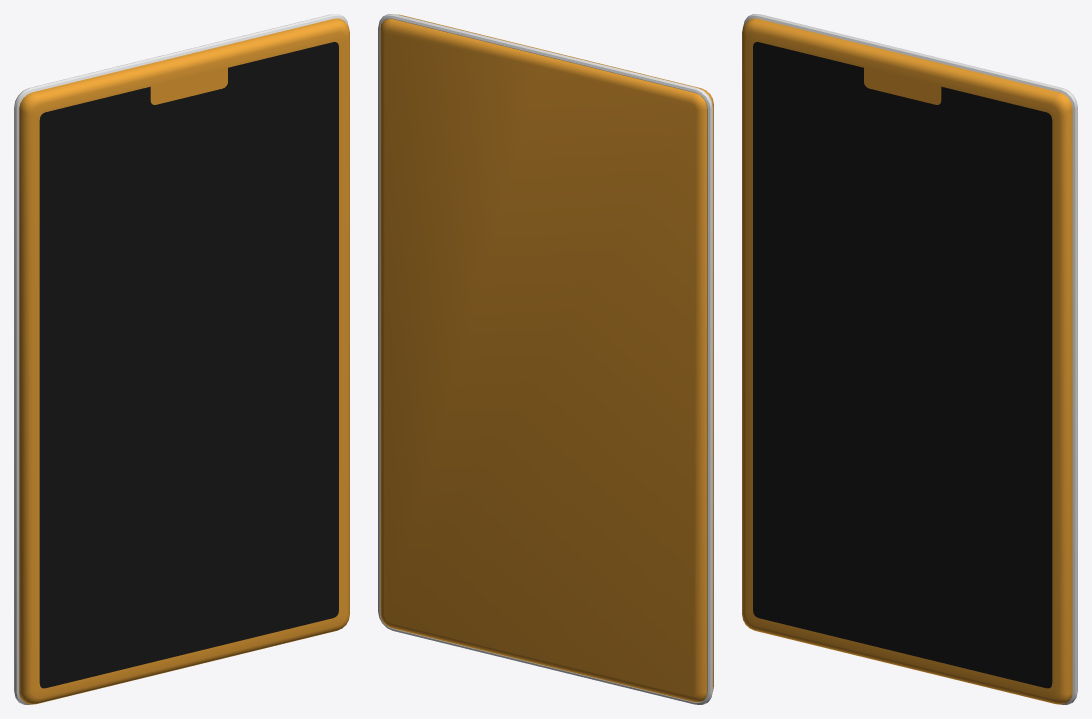
File: smartphone.glb
The picture shows the model from 3 angles, left to right: view 1: azimuth 30°, elevation 25°; view 2: azimuth 150°, elevation 25°; view 3: azimuth 330°, elevation 25°; orthographic projection.
Parts seen in each view (by area): view 1: Plane; view 2: Plane; view 3: Plane.
Part boxes in pixels (left/top/right/bottom): Plane: left=14, top=14, right=349, bottom=704; Plane: left=378, top=14, right=713, bottom=704; Plane: left=742, top=14, right=1077, bottom=704.
Bounding box in the file's own units: 0.6654 × 1.17 × 0.0441.
